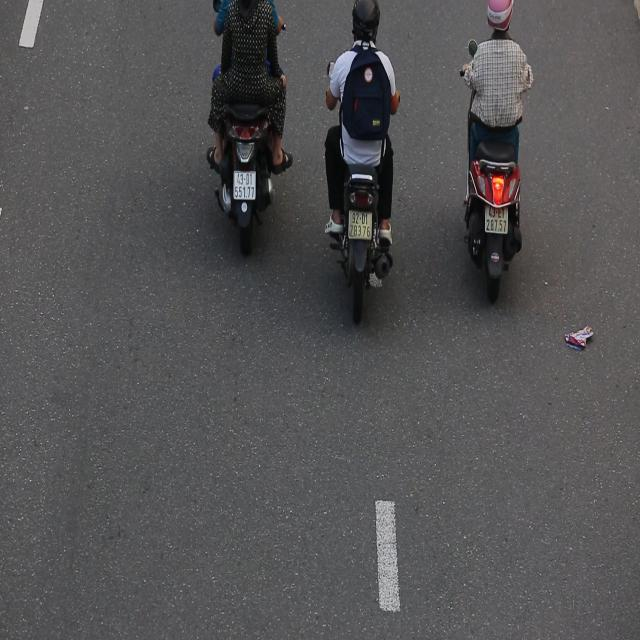motorbike: (321, 0, 409, 341), (463, 0, 535, 324)
